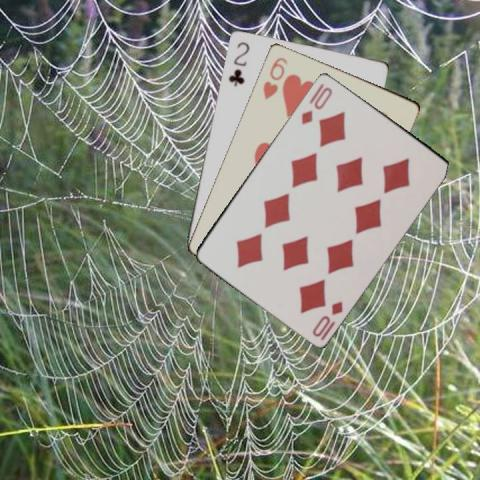10d: (309, 297, 345, 342), (298, 84, 333, 126)
2c: (225, 38, 251, 87)
6h: (260, 54, 290, 101)
